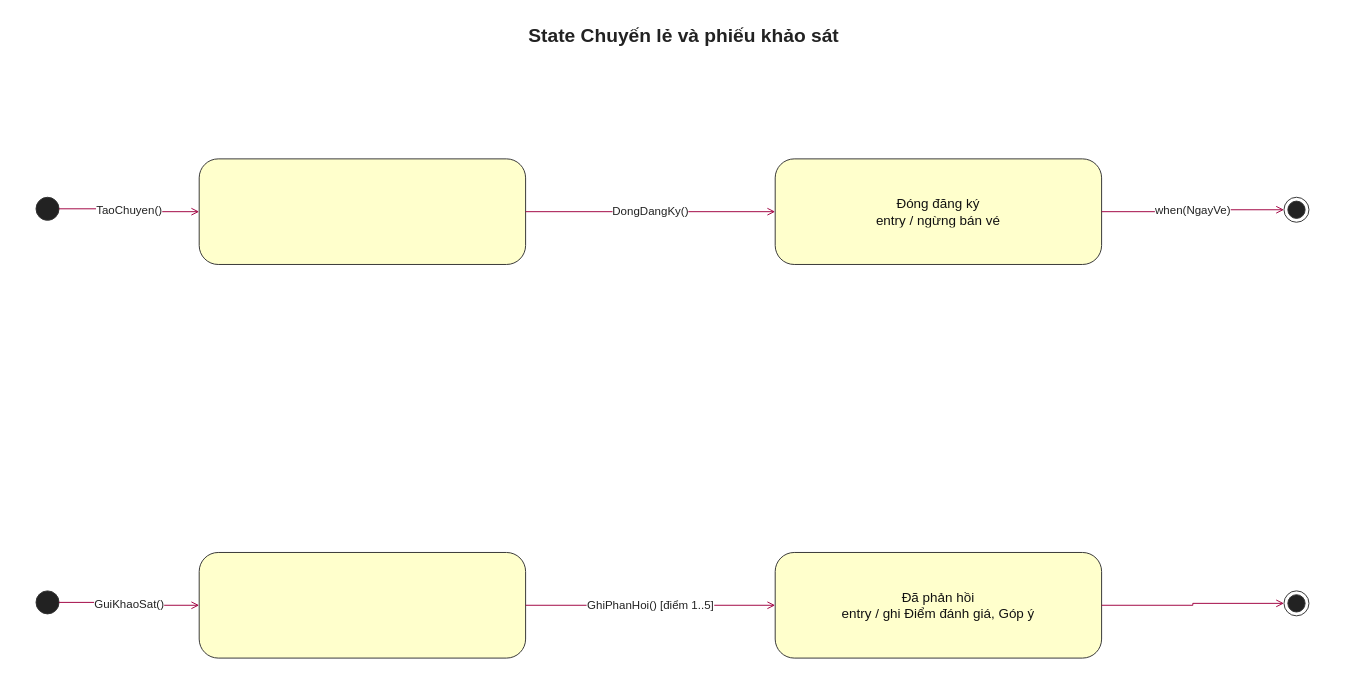
This 1367x675 diagram has some shape labels left out. The centre of each missing label's shape, as x and y in pixels:
"Mở đăng ký do / bán vé cho khách lẻ" goes at [362,211].
"Đã gửi entry / Ngày gửi > ngày kết thúc tour" goes at [362,605].
